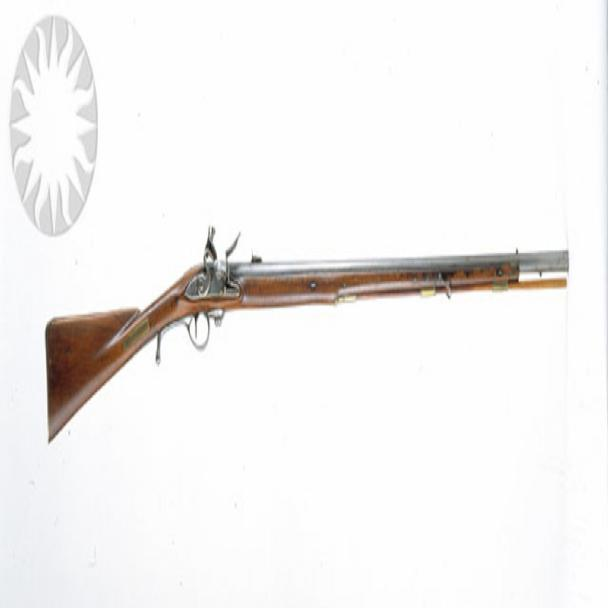Gun: (39, 222, 581, 469)
